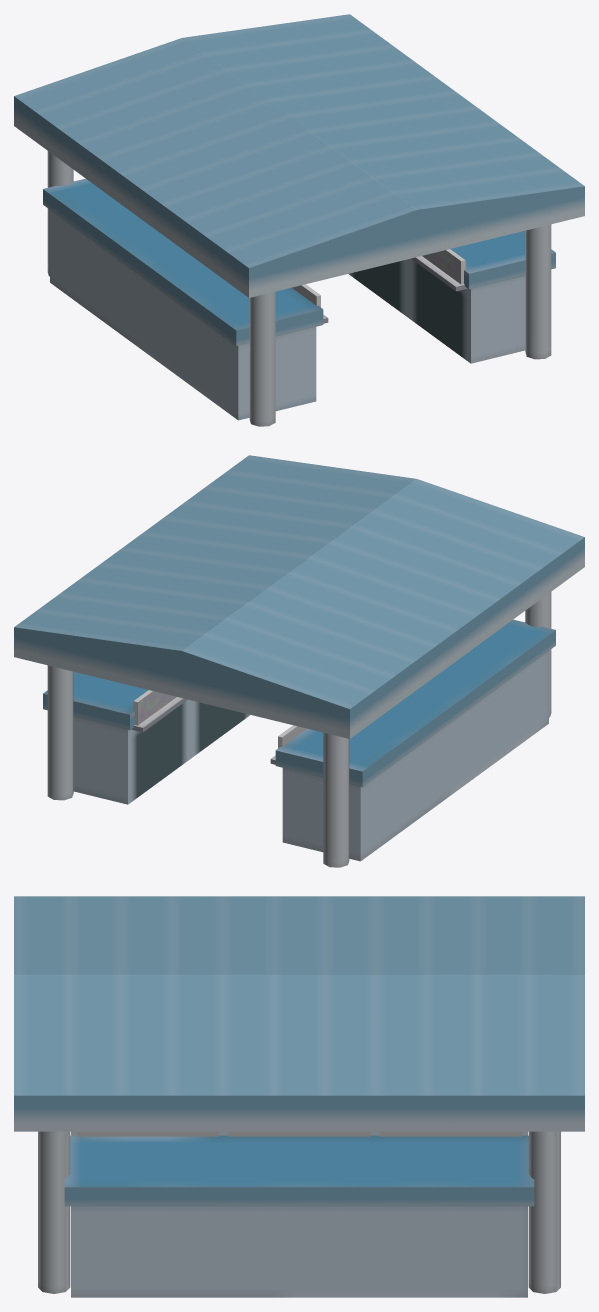
Rendered from Universal_Building_Market_L2_01_Mod.fbx.
The picture shows the model from 3 angles, top to bottom: view 1: azimuth 30°, elevation 25°; view 2: azimuth 150°, elevation 25°; view 3: azimuth 270°, elevation 25°; orthographic projection. The views are drawn at different scales.
Parts seen in each view (by area): view 1: Universal_Building_Market_L2_01_Mod; view 2: Universal_Building_Market_L2_01_Mod; view 3: Universal_Building_Market_L2_01_Mod.
Boxes of the visible parts, x1,y1,x2,y2 form: Universal_Building_Market_L2_01_Mod: [14, 14, 584, 426]; Universal_Building_Market_L2_01_Mod: [14, 455, 584, 867]; Universal_Building_Market_L2_01_Mod: [14, 896, 584, 1297].
Bounding box in the file's own units: 1152 × 622 × 1396.
